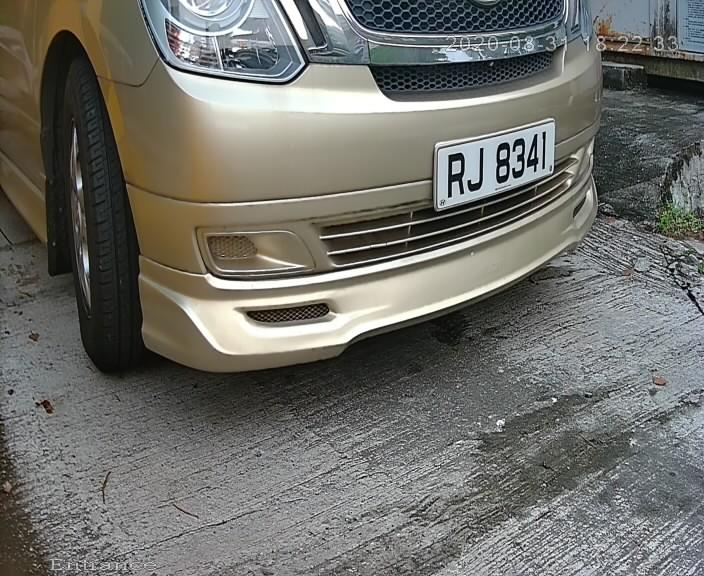License Plate: (425, 114, 563, 224)
